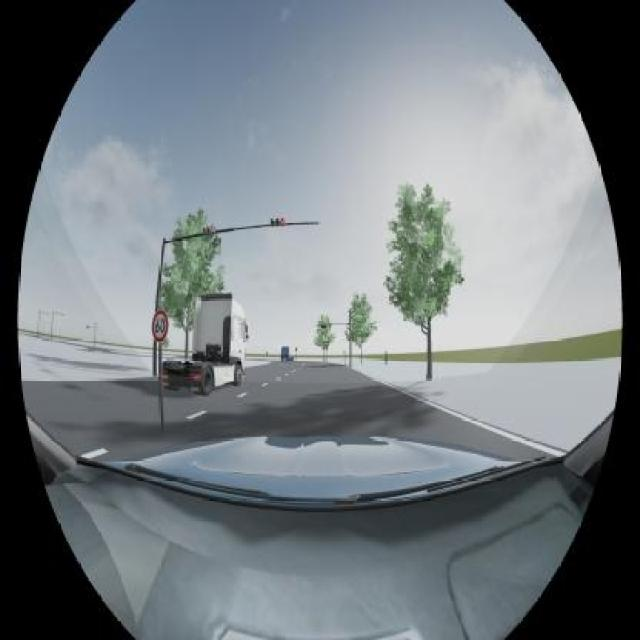forb_speed_over_60: (152, 310, 169, 342)
